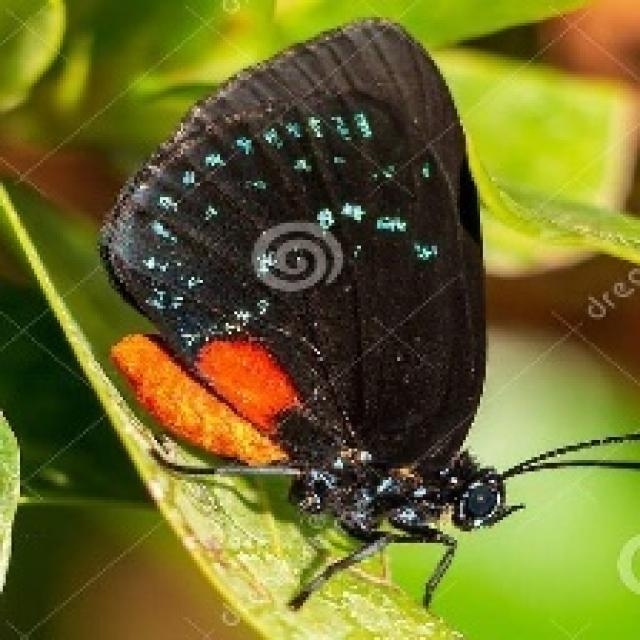butterfly: (94, 12, 637, 614)
